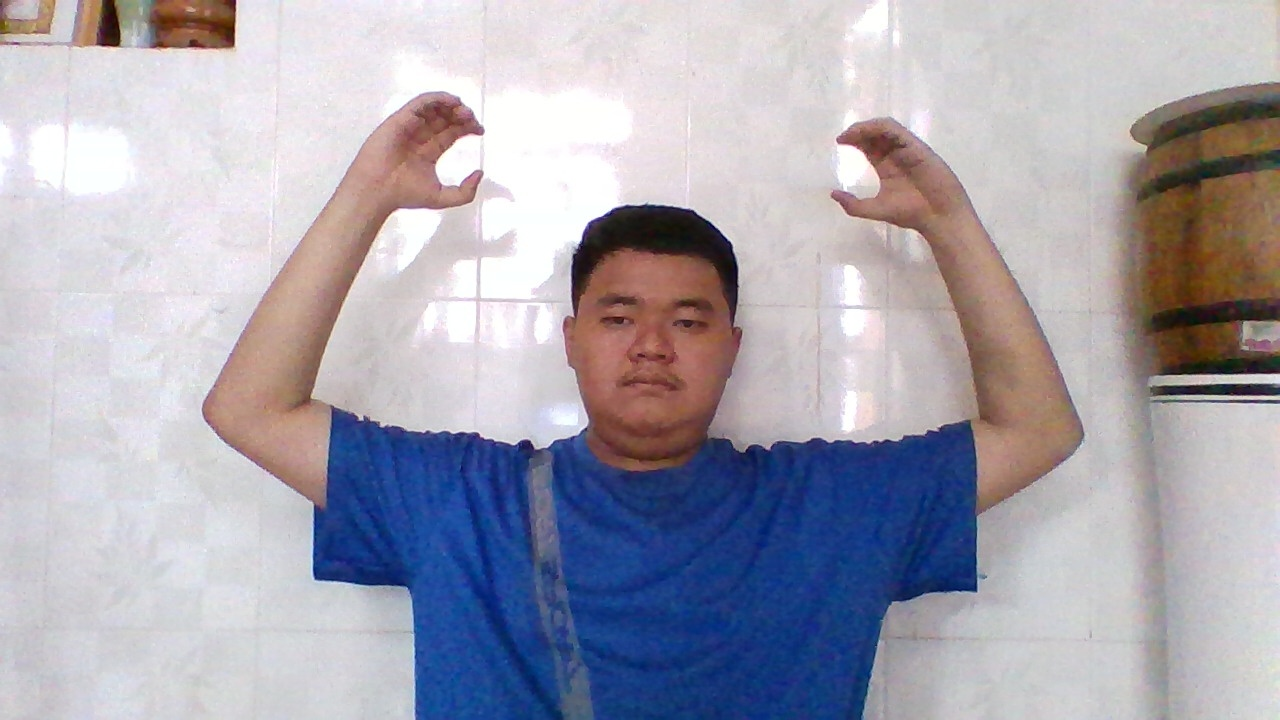C: (361, 81, 496, 217), (820, 106, 953, 234)
